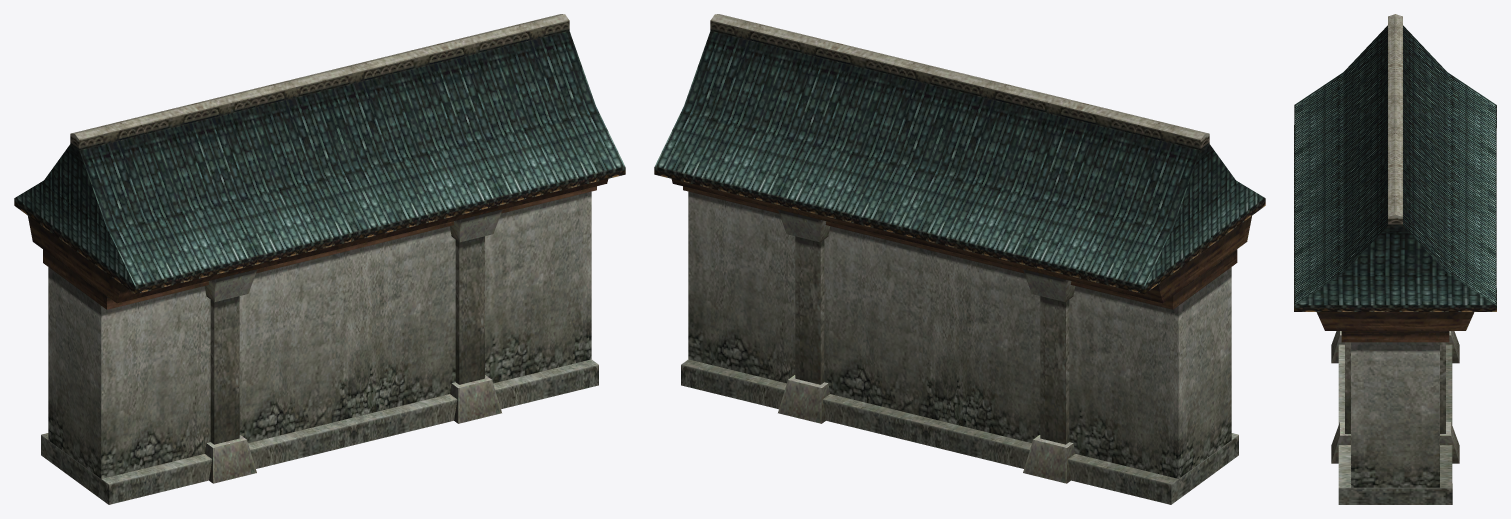
The model's file is gls_a_wall-lin2.glb.
3 renders of one model, left to right at view 1: azimuth 30°, elevation 25°; view 2: azimuth 150°, elevation 25°; view 3: azimuth 270°, elevation 25°, orthographic. The views are drawn at different scales.
Parts seen in each view (by area): view 1: gls_A_wall-lin2; view 2: gls_A_wall-lin2; view 3: gls_A_wall-lin2.
Part boxes in pixels (<box>): gls_A_wall-lin2: <box>14,14,625,504</box>; gls_A_wall-lin2: <box>654,14,1265,504</box>; gls_A_wall-lin2: <box>1294,14,1496,504</box>.
Size of the model in its own units: 10 by 6.75 by 4.27.
1 material, 1 textured.
